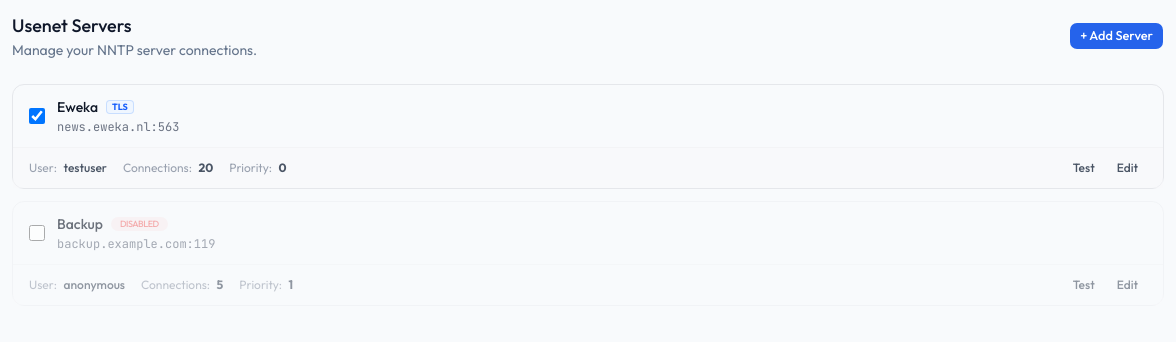
Scenario: ServersSection › shows inline success result after test
Click the button titled "Test connection" in the row of "20": (1084, 168) [1064,156,1104,180]
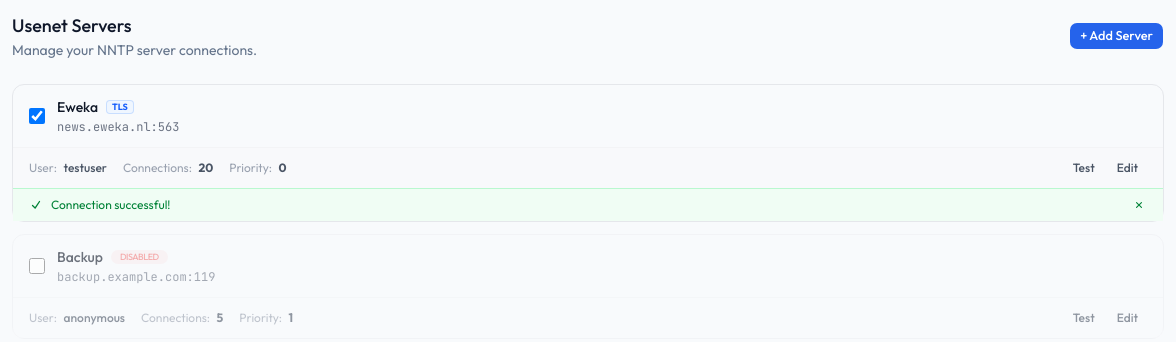
Now the text "Connection successful!" is shown, box [51,197,170,212]
